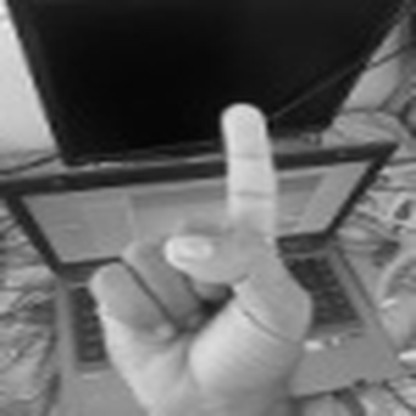d: (85, 93, 318, 416)
